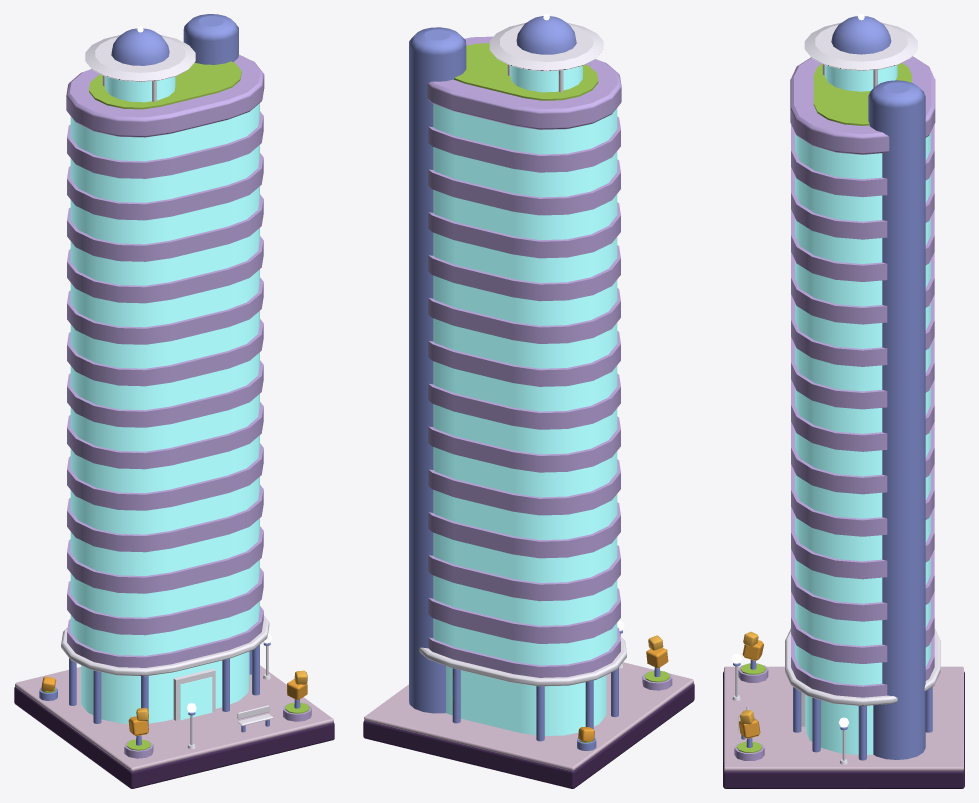
Rendered from modern_building_3_2Level_Demo.glb.
The picture shows the model from 3 angles, left to right: view 1: azimuth 30°, elevation 25°; view 2: azimuth 150°, elevation 25°; view 3: azimuth 270°, elevation 25°; orthographic projection. The views are drawn at different scales.
Parts seen in each view (by area): view 1: MB3_2_Glass2, MB3_2_Lilac2, MB3_2_Paving, MB3_2_Peri2, MB3_2_White2, MB3_2_Base, MB3_2_Grass, MB3_2_Leaf; view 2: MB3_2_Glass2, MB3_2_Lilac2, MB3_2_Peri2, MB3_2_Paving, MB3_2_Base, MB3_2_White2, MB3_2_Grass, MB3_2_Leaf; view 3: MB3_2_Lilac2, MB3_2_Glass2, MB3_2_Peri2, MB3_2_Paving, MB3_2_White2, MB3_2_Base, MB3_2_Grass, MB3_2_Leaf.
Boxes of the visible parts, x1,y1,x2,y2 form: MB3_2_Glass2: (70, 76, 259, 723); MB3_2_Lilac2: (66, 54, 311, 758); MB3_2_Paving: (15, 665, 333, 771); MB3_2_Peri2: (39, 14, 300, 745); MB3_2_White2: (61, 35, 273, 749); MB3_2_Base: (14, 686, 334, 788); MB3_2_Grass: (43, 61, 309, 750); MB3_2_Leaf: (41, 676, 307, 736); MB3_2_Glass2: (433, 66, 617, 735); MB3_2_Lilac2: (427, 36, 672, 690); MB3_2_Peri2: (409, 16, 660, 750); MB3_2_Paving: (364, 662, 693, 771); MB3_2_Base: (363, 683, 694, 788); MB3_2_White2: (419, 22, 626, 686); MB3_2_Grass: (454, 43, 669, 742); MB3_2_Leaf: (578, 647, 668, 742); MB3_2_Lilac2: (734, 56, 935, 760); MB3_2_Glass2: (795, 65, 930, 754); MB3_2_Peri2: (733, 16, 932, 760); MB3_2_Paving: (724, 666, 963, 771); MB3_2_White2: (732, 22, 940, 764); MB3_2_Base: (723, 671, 964, 788); MB3_2_Grass: (736, 63, 911, 752); MB3_2_Leaf: (738, 640, 763, 738).
Size of the model in its own units: 3.2 by 10.4 by 3.2.
